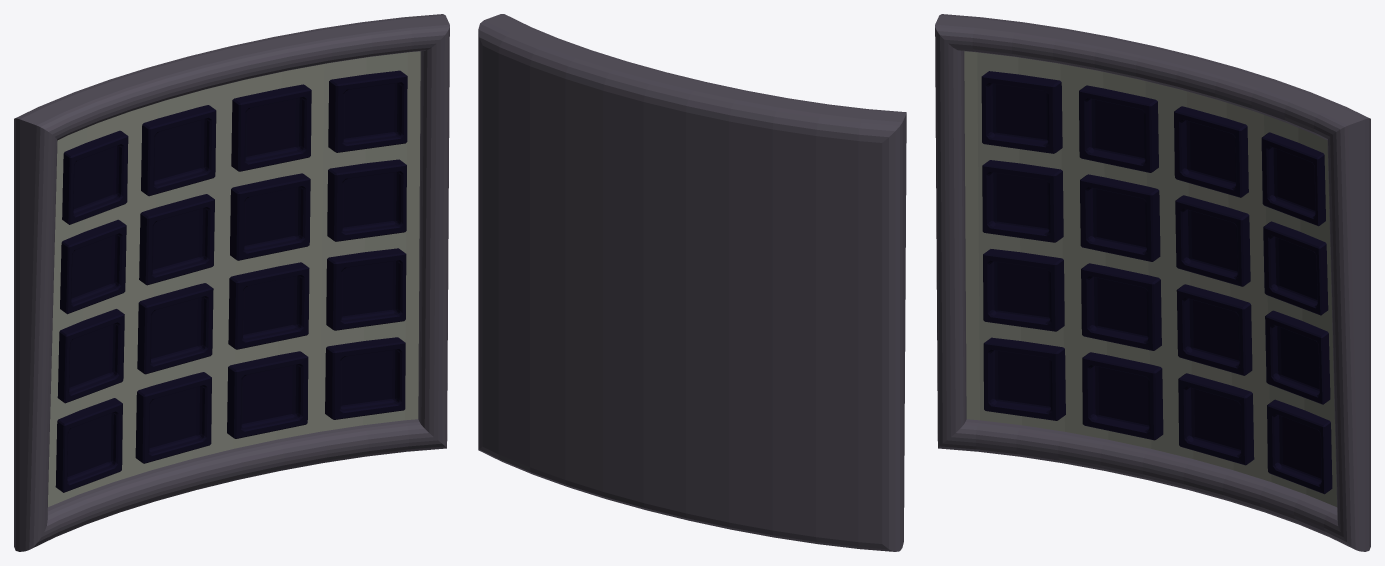
The model's file is UIelements2.fbx.
3 views of the same model, side by side, from view 1: azimuth 30°, elevation 25°; view 2: azimuth 150°, elevation 25°; view 3: azimuth 330°, elevation 25° (orthographic).
Visible parts, largest first — view 1: Cube, SurfCurve, screen; view 2: SurfCurve; view 3: Cube, SurfCurve, screen.
Part boxes in pixels (bbox=[...]): Cube: bbox=[55, 70, 407, 492]; SurfCurve: bbox=[14, 14, 449, 551]; screen: bbox=[48, 51, 420, 506]; SurfCurve: bbox=[478, 14, 906, 551]; Cube: bbox=[981, 71, 1332, 494]; SurfCurve: bbox=[935, 14, 1370, 551]; screen: bbox=[964, 51, 1336, 506].
Bounding box in the file's own units: 147 × 143 × 25.6.
